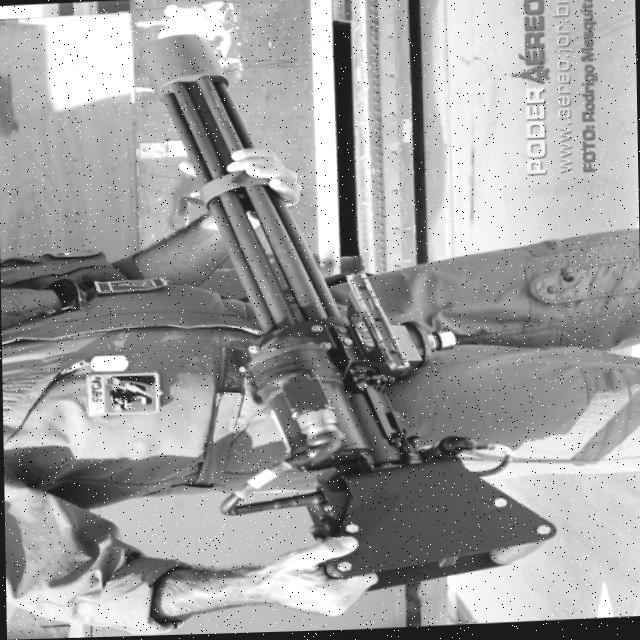firearm: (137, 27, 408, 475)
